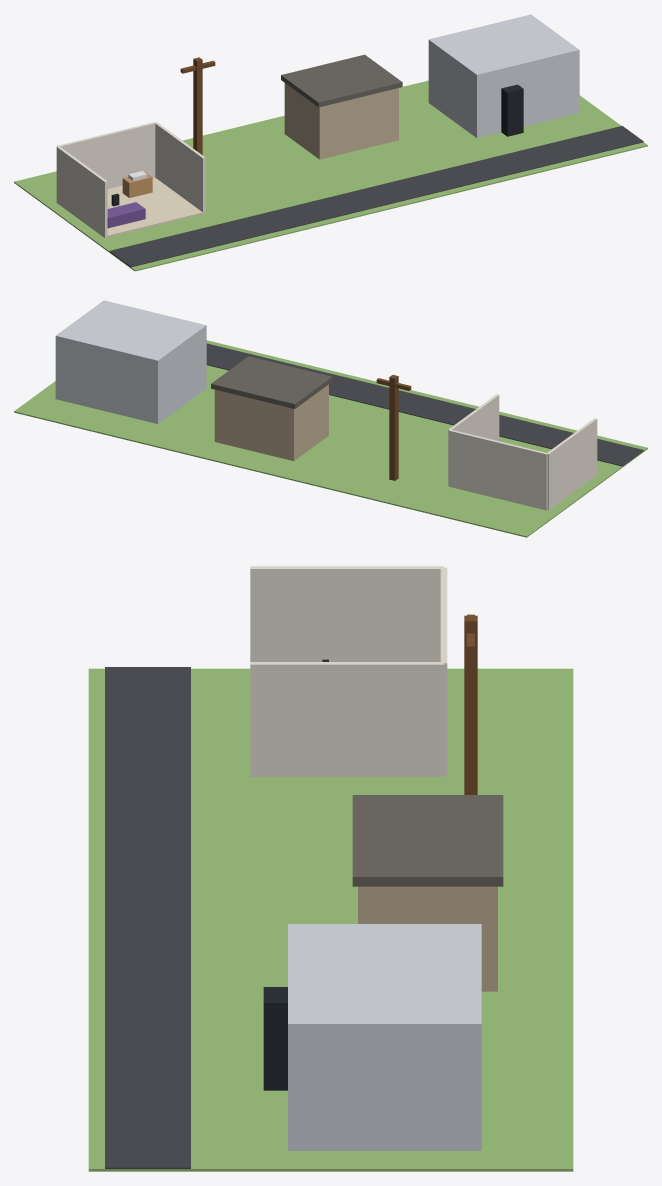
The model's file is house.glb.
The picture shows the model from 3 angles, top to bottom: view 1: azimuth 30°, elevation 25°; view 2: azimuth 150°, elevation 25°; view 3: azimuth 270°, elevation 25°; orthographic projection. The views are drawn at different scales.
Visible parts, largest first — view 1: object 16, datacentre, object 15, exchange, Roof, object 12, object 13, object 14, object 11, rack, Cylinder.002, sofa (+1 smaller); view 2: object 16, datacentre, object 15, exchange, object 12, Roof, object 13, object 14, Cylinder.002; view 3: object 16, datacentre, object 15, object 14, object 13, Roof, exchange, rack, Cylinder.002, object 12.
Part boxes in pixels (bbox=[...]): object 16: bbox=[14, 80, 647, 271]; datacentre: bbox=[428, 14, 579, 138]; object 15: bbox=[109, 126, 643, 267]; exchange: bbox=[284, 83, 398, 159]; Roof: bbox=[281, 54, 402, 107]; object 12: bbox=[57, 122, 155, 188]; object 13: bbox=[56, 146, 107, 238]; object 14: bbox=[155, 122, 205, 213]; object 11: bbox=[106, 177, 204, 237]; rack: bbox=[501, 84, 523, 136]; Cylinder.002: bbox=[193, 57, 202, 154]; sofa: bbox=[107, 202, 145, 228]; object 16: bbox=[14, 340, 647, 537]; datacentre: bbox=[55, 300, 206, 423]; object 15: bbox=[206, 343, 643, 466]; exchange: bbox=[214, 384, 328, 461]; object 12: bbox=[448, 429, 547, 510]; Roof: bbox=[211, 356, 332, 408]; object 13: bbox=[547, 418, 597, 510]; object 14: bbox=[448, 394, 499, 485]; Cylinder.002: bbox=[389, 375, 398, 480]; object 16: bbox=[88, 668, 573, 1171]; datacentre: bbox=[288, 924, 481, 1150]; object 15: bbox=[105, 667, 190, 1168]; object 14: bbox=[250, 662, 443, 776]; object 13: bbox=[250, 566, 443, 661]; Roof: bbox=[352, 795, 503, 886]; exchange: bbox=[358, 886, 497, 991]; rack: bbox=[263, 987, 287, 1090]; Cylinder.002: bbox=[464, 615, 477, 794]; object 12: bbox=[440, 567, 447, 775].
Size of the model in its own units: 22 by 4.25 by 9.
